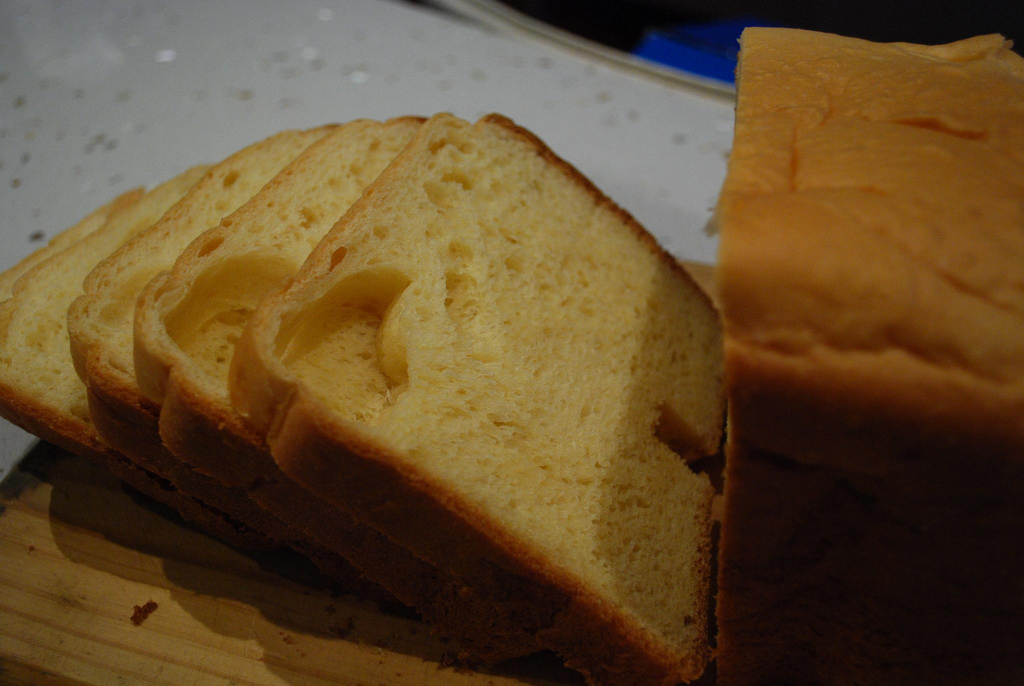slice of bread: (9, 120, 729, 686), (707, 13, 1024, 497)
